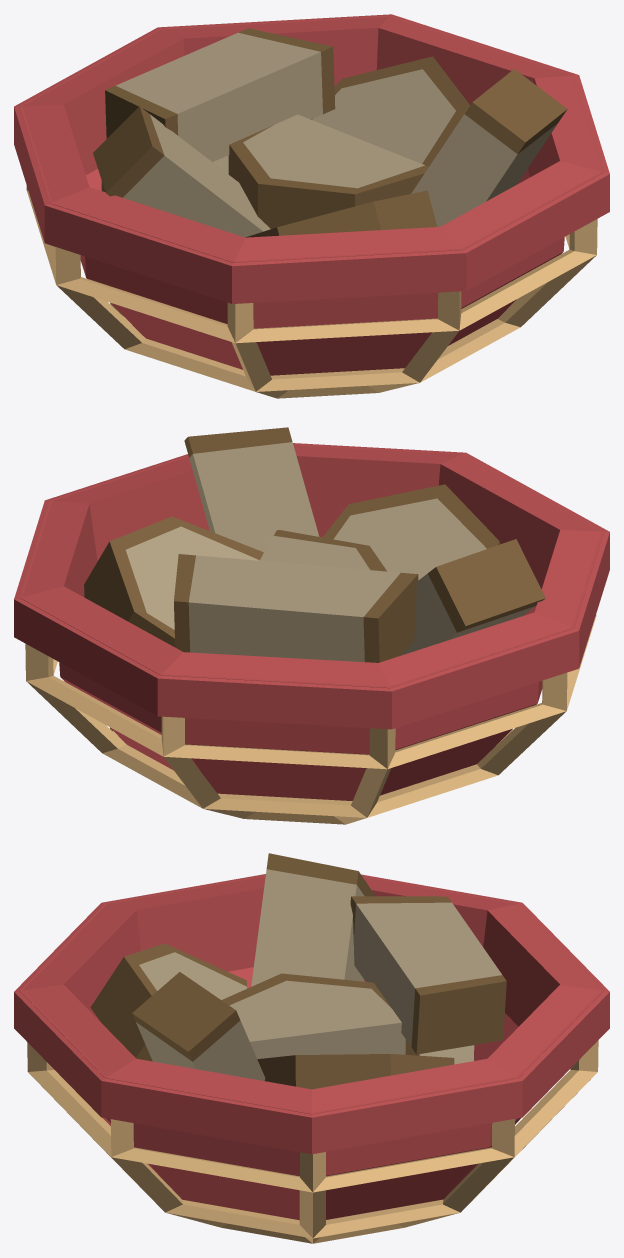
File: R_Bread.fbx
3 views of the same model, one above another, from view 1: azimuth 30°, elevation 25°; view 2: azimuth 150°, elevation 25°; view 3: azimuth 270°, elevation 25° (orthographic). The views are drawn at different scales.
Parts seen in each view (by area): view 1: R_Bread; view 2: R_Bread; view 3: R_Bread.
Part boxes in pixels (left/top/right/bottom): R_Bread: left=14, top=14, right=609, bottom=398; R_Bread: left=14, top=427, right=609, bottom=824; R_Bread: left=14, top=853, right=609, bottom=1243.
Bounding box in the file's own units: 215 × 215 × 104.
